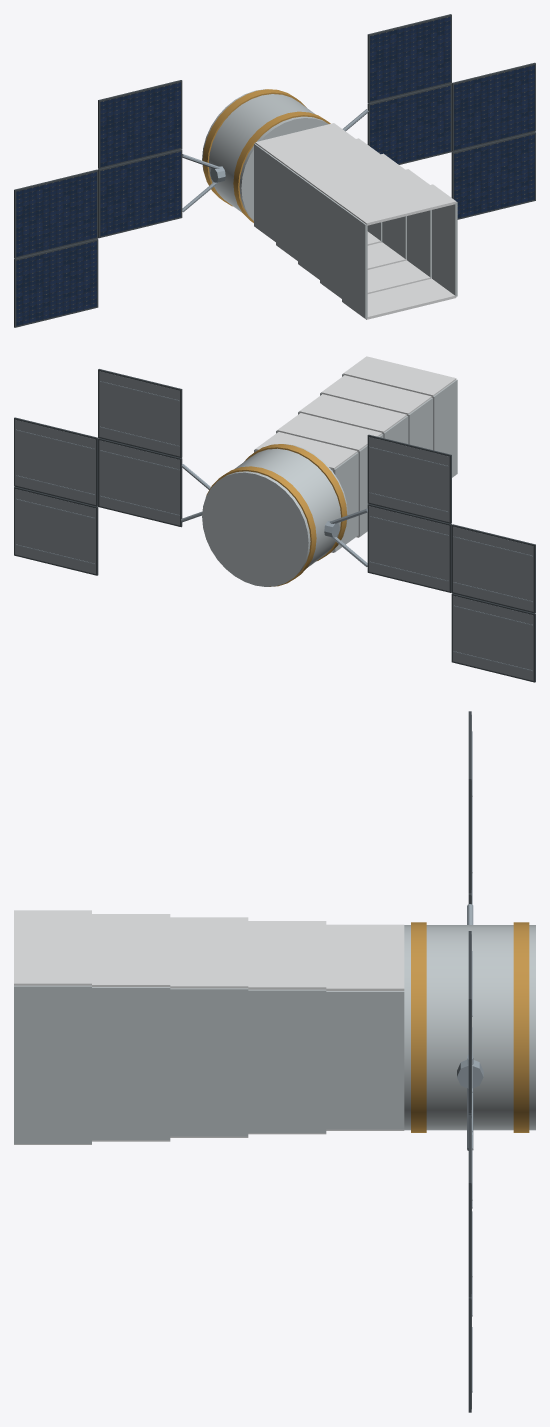
The model's file is ref-oko-8357.glb.
3 renders of one model, top to bottom at view 1: azimuth 30°, elevation 25°; view 2: azimuth 150°, elevation 25°; view 3: azimuth 270°, elevation 25°, orthographic. The views are drawn at different scales.
Visible parts, largest first — view 1: Solar cell panel (×8), Square sunshade wall (×16), Solar panel frame (×8), Service module, Module band (×2); view 2: Rear array substrate (×8), Square sunshade wall (×10), Service module, Solar panel frame (×8), Module band (×2); view 3: Square sunshade wall (×10), Service module, Module band (×2).
Boxes of the visible parts, x1,y1,x2,y2 form: Solar cell panel (×8): [16, 16, 534, 326]; Square sunshade wall (×16): [254, 123, 457, 319]; Solar panel frame (×8): [14, 14, 535, 327]; Service module: [202, 89, 328, 220]; Module band (×2): [202, 89, 330, 222]; Rear array substrate (×8): [15, 371, 533, 680]; Square sunshade wall (×10): [255, 356, 457, 551]; Service module: [202, 444, 347, 586]; Solar panel frame (×8): [14, 369, 535, 682]; Module band (×2): [206, 444, 347, 586]; Square sunshade wall (×10): [14, 910, 404, 1143]; Service module: [404, 925, 535, 1130]; Module band (×2): [411, 922, 529, 1132].
Size of the model in its own units: 9.78 by 3.71 by 5.08.
Materials: 7 (1 with a texture image).
